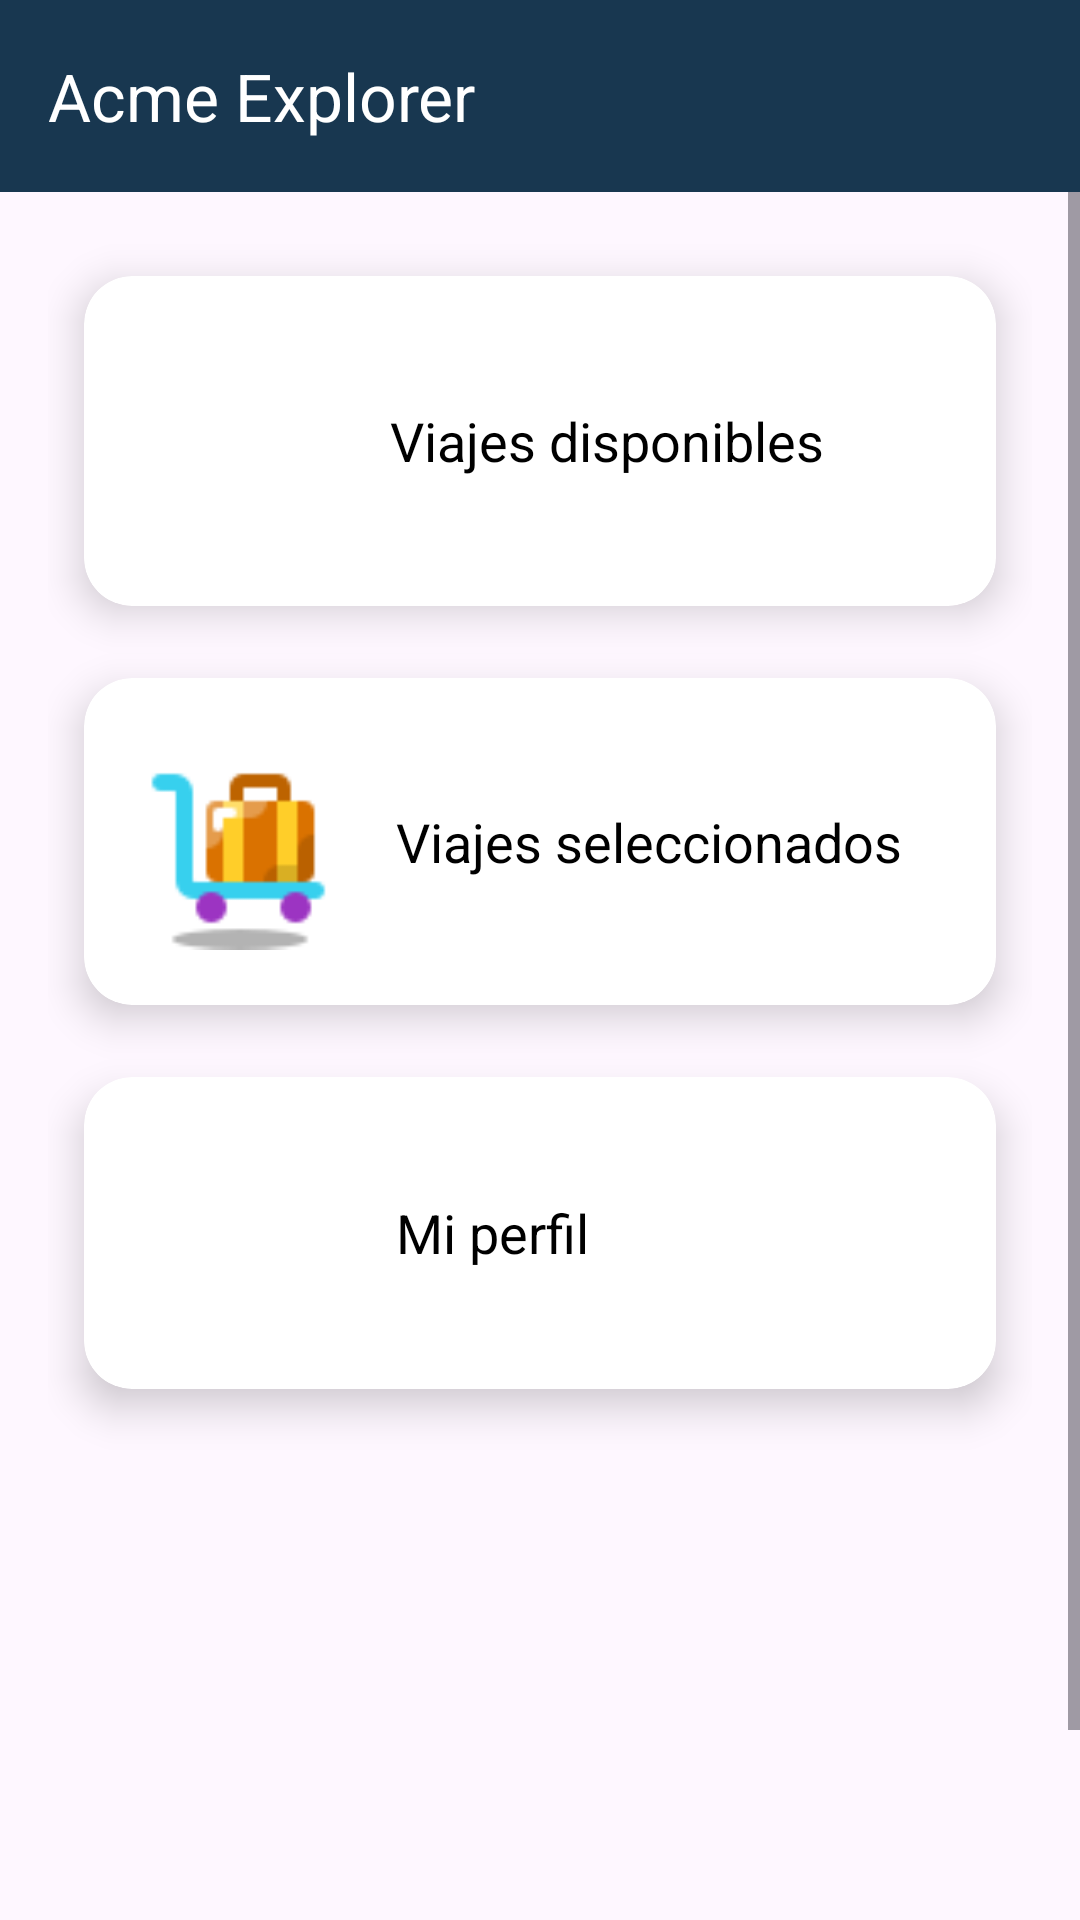

Named icons in this screenshot (1080*1920) and their bounding boxes, bbox=(x1, y1, x2, y2):
Icono seleccionados: bbox=(151, 773, 326, 950)
